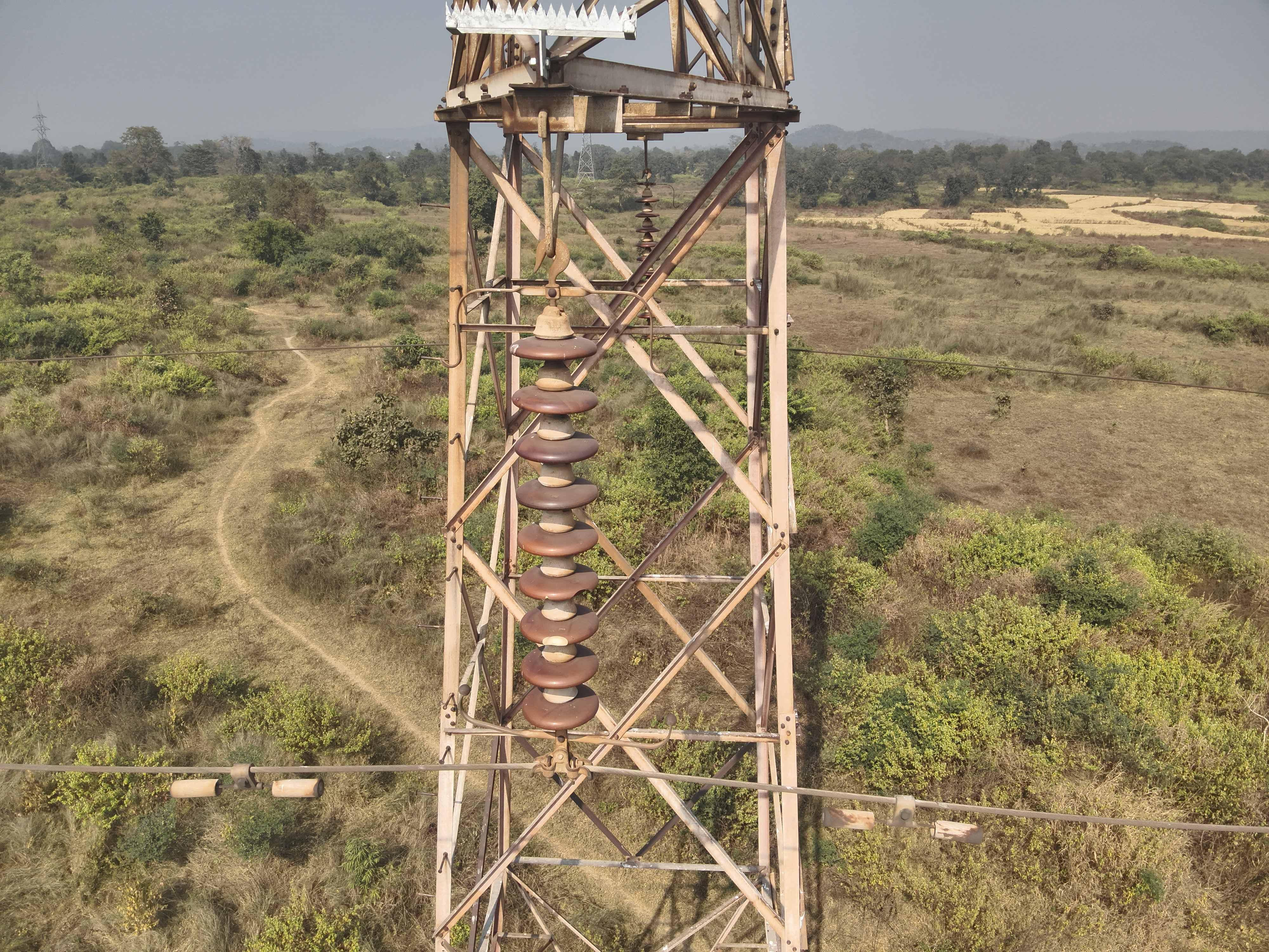broken_insulator: (517, 607, 604, 656), (514, 562, 600, 603)
